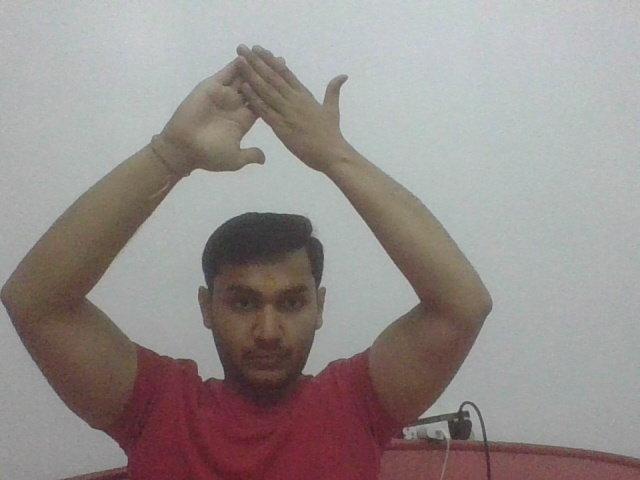H: (164, 42, 353, 179)
